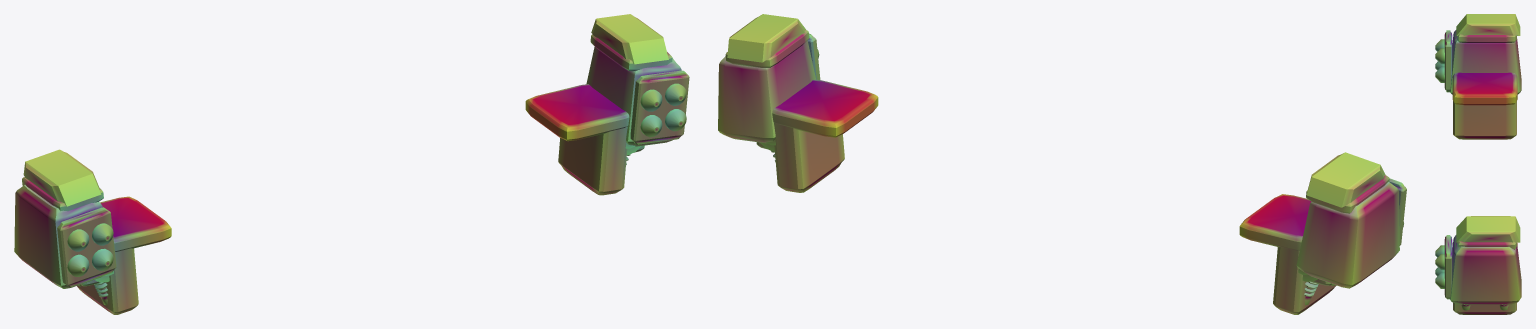
The model's file is llm_gen_shoulder_pods_046_25d4be.glb.
3 views of the same model, side by side, from view 1: azimuth 30°, elevation 25°; view 2: azimuth 150°, elevation 25°; view 3: azimuth 270°, elevation 25° (orthographic). The views are drawn at different scales.
Visible parts, largest first — view 1: adapter_shoulder_yoke_r, adapter_shoulder_yoke_l, missile_box_hull_1_titanium_silver_l, missile_top_cowl_3_wing_white_l, missile_box_hull_1_titanium_silver_r, missile_top_cowl_3_wing_white_r, adapter_sub_missile_bezel_dark_4_adapter_dark_r, adapter_sub_missile_bezel_dark_4_adapter_dark_l, adapter_sub_missile_hood_dark_2_adapter_dark_r, adapter_sub_missile_hood_dark_2_adapter_dark_l; view 2: adapter_shoulder_yoke_r, missile_box_hull_1_titanium_silver_l, missile_box_hull_1_titanium_silver_r, adapter_shoulder_yoke_l, missile_top_cowl_3_wing_white_l, missile_top_cowl_3_wing_white_r, adapter_sub_missile_hood_dark_2_adapter_dark_r, adapter_sub_missile_hood_dark_2_adapter_dark_l; view 3: adapter_shoulder_yoke_l, missile_box_hull_1_titanium_silver_r, missile_box_hull_1_titanium_silver_l, missile_top_cowl_3_wing_white_r, missile_top_cowl_3_wing_white_l, adapter_shoulder_yoke_r, adapter_sub_missile_bezel_dark_4_adapter_dark_r, adapter_sub_missile_bezel_dark_4_adapter_dark_l, adapter_sub_missile_hood_dark_2_adapter_dark_l, adapter_sub_missile_hood_dark_2_adapter_dark_r, missile_cell_bl_7_amber_optic_l, missile_cell_br_8_amber_optic_r (+4 smaller).
Part boxes in pixels (left/top/right/bottom): adapter_shoulder_yoke_r: left=525, top=84, right=644, bottom=195; adapter_shoulder_yoke_l: left=77, top=196, right=171, bottom=314; missile_box_hull_1_titanium_silver_l: left=14, top=185, right=102, bottom=288; missile_top_cowl_3_wing_white_l: left=23, top=149, right=101, bottom=206; missile_box_hull_1_titanium_silver_r: left=586, top=47, right=681, bottom=146; missile_top_cowl_3_wing_white_r: left=591, top=14, right=668, bottom=64; adapter_sub_missile_bezel_dark_4_adapter_dark_r: left=630, top=70, right=689, bottom=144; adapter_sub_missile_bezel_dark_4_adapter_dark_l: left=57, top=207, right=116, bottom=287; adapter_sub_missile_hood_dark_2_adapter_dark_r: left=590, top=34, right=672, bottom=71; adapter_sub_missile_hood_dark_2_adapter_dark_l: left=22, top=177, right=103, bottom=211; adapter_shoulder_yoke_r: left=756, top=79, right=878, bottom=192; missile_box_hull_1_titanium_silver_l: left=1296, top=182, right=1399, bottom=288; missile_box_hull_1_titanium_silver_r: left=718, top=40, right=815, bottom=143; adapter_shoulder_yoke_l: left=1239, top=194, right=1336, bottom=314; missile_top_cowl_3_wing_white_l: left=1307, top=152, right=1385, bottom=207; missile_top_cowl_3_wing_white_r: left=727, top=14, right=805, bottom=62; adapter_sub_missile_hood_dark_2_adapter_dark_r: left=725, top=29, right=809, bottom=67; adapter_sub_missile_hood_dark_2_adapter_dark_l: left=1306, top=175, right=1389, bottom=213; adapter_shoulder_yoke_l: left=1452, top=72, right=1517, bottom=139; missile_box_hull_1_titanium_silver_r: left=1449, top=235, right=1521, bottom=304; missile_box_hull_1_titanium_silver_l: left=1449, top=30, right=1521, bottom=94; missile_top_cowl_3_wing_white_r: left=1456, top=216, right=1520, bottom=242; missile_top_cowl_3_wing_white_l: left=1456, top=14, right=1520, bottom=35; adapter_shoulder_yoke_r: left=1452, top=243, right=1517, bottom=314; adapter_sub_missile_bezel_dark_4_adapter_dark_r: left=1444, top=235, right=1452, bottom=299; adapter_sub_missile_bezel_dark_4_adapter_dark_l: left=1444, top=30, right=1452, bottom=92; adapter_sub_missile_hood_dark_2_adapter_dark_l: left=1457, top=34, right=1516, bottom=42; adapter_sub_missile_hood_dark_2_adapter_dark_r: left=1457, top=241, right=1516, bottom=249; missile_cell_bl_7_amber_optic_l: left=1435, top=66, right=1444, bottom=82; missile_cell_br_8_amber_optic_r: left=1435, top=272, right=1444, bottom=288.
Size of the model in its own units: 107 by 23.09 by 17.3.
